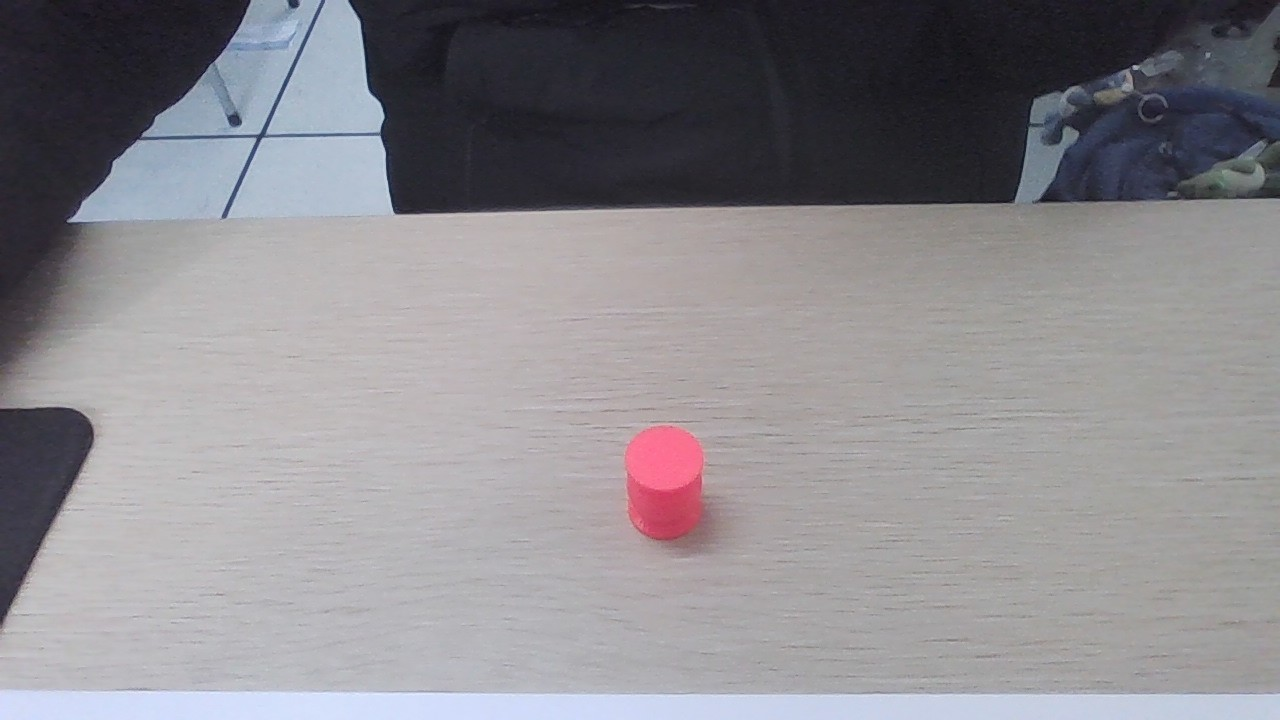KHS-plastic: (626, 426, 704, 533)
